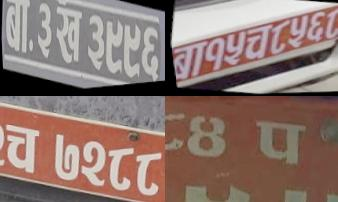1: (198, 37, 228, 72)
2: (73, 135, 111, 193), (0, 116, 9, 169)
3: (84, 11, 108, 77), (32, 0, 55, 64)
4: (182, 112, 230, 163)
5: (219, 30, 249, 67), (282, 15, 311, 49)
6: (137, 23, 161, 86), (303, 11, 328, 43)
7: (45, 133, 85, 187)
8: (98, 139, 140, 196), (126, 142, 165, 201), (263, 19, 293, 56), (165, 108, 187, 154), (320, 7, 338, 39)
9: (170, 178, 255, 202), (119, 18, 144, 87), (102, 15, 126, 82)
ba: (0, 0, 32, 59), (170, 38, 208, 82)
cha: (0, 118, 44, 177), (237, 24, 273, 62)
kha: (50, 2, 85, 72)
pa: (248, 119, 303, 169)
